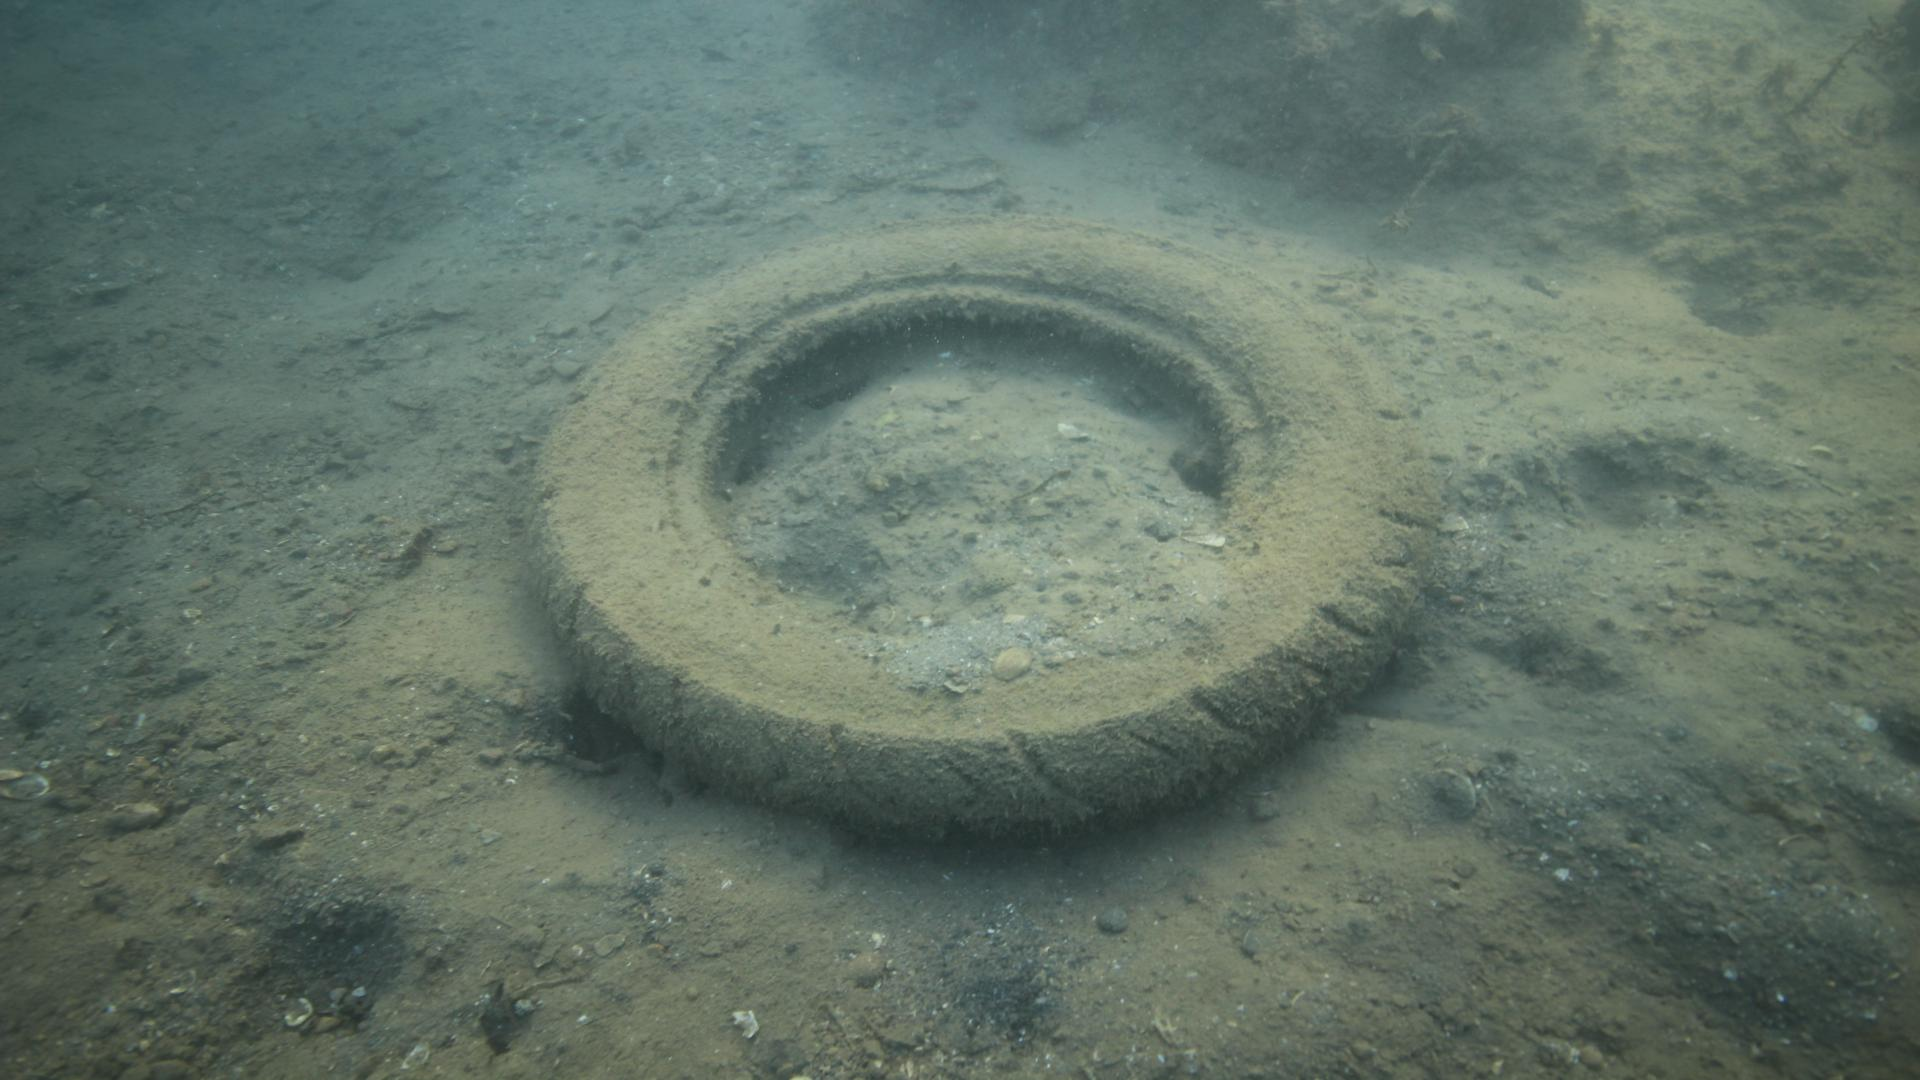tire: (518, 211, 1429, 836)
